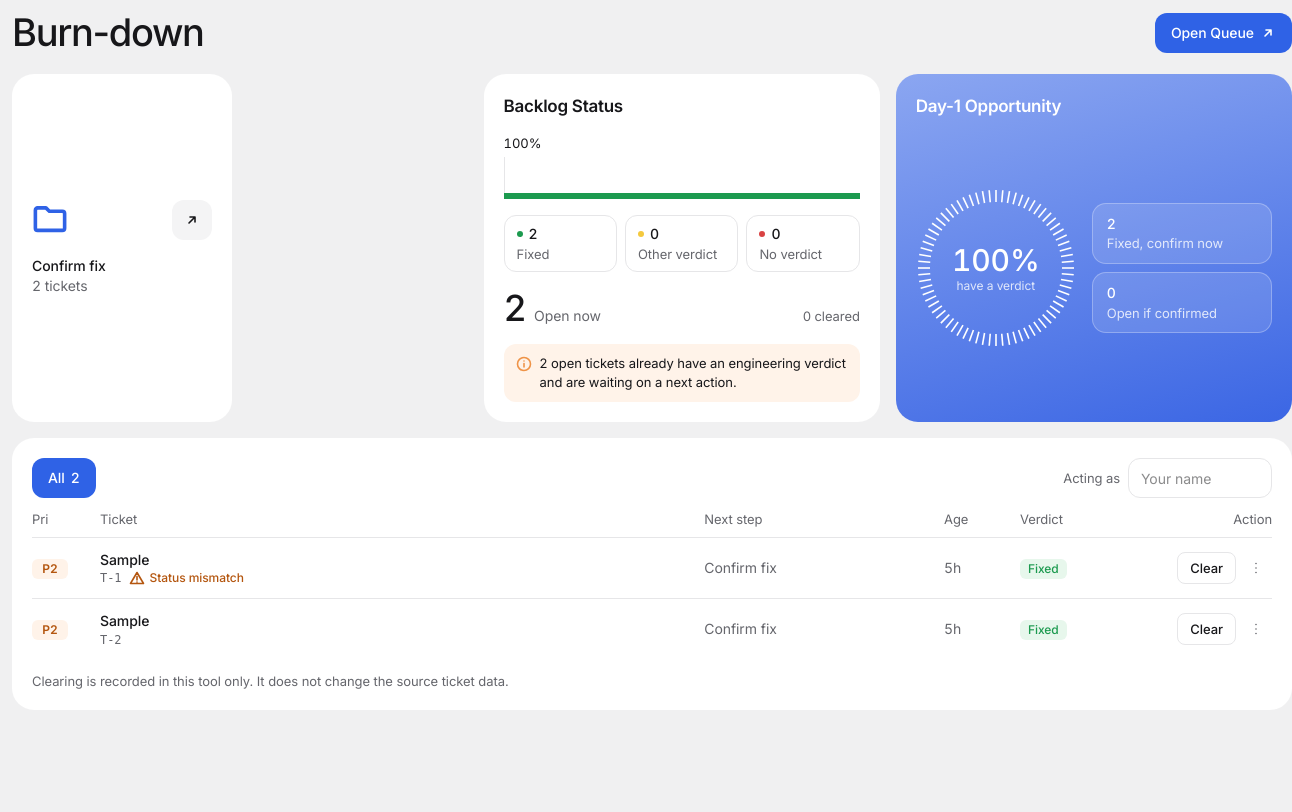
Test: BurndownView › asks for a name before recording
Click the button with aria-label "Clear T-1". click: x=1207, y=568
box: [1177,552,1236,584]
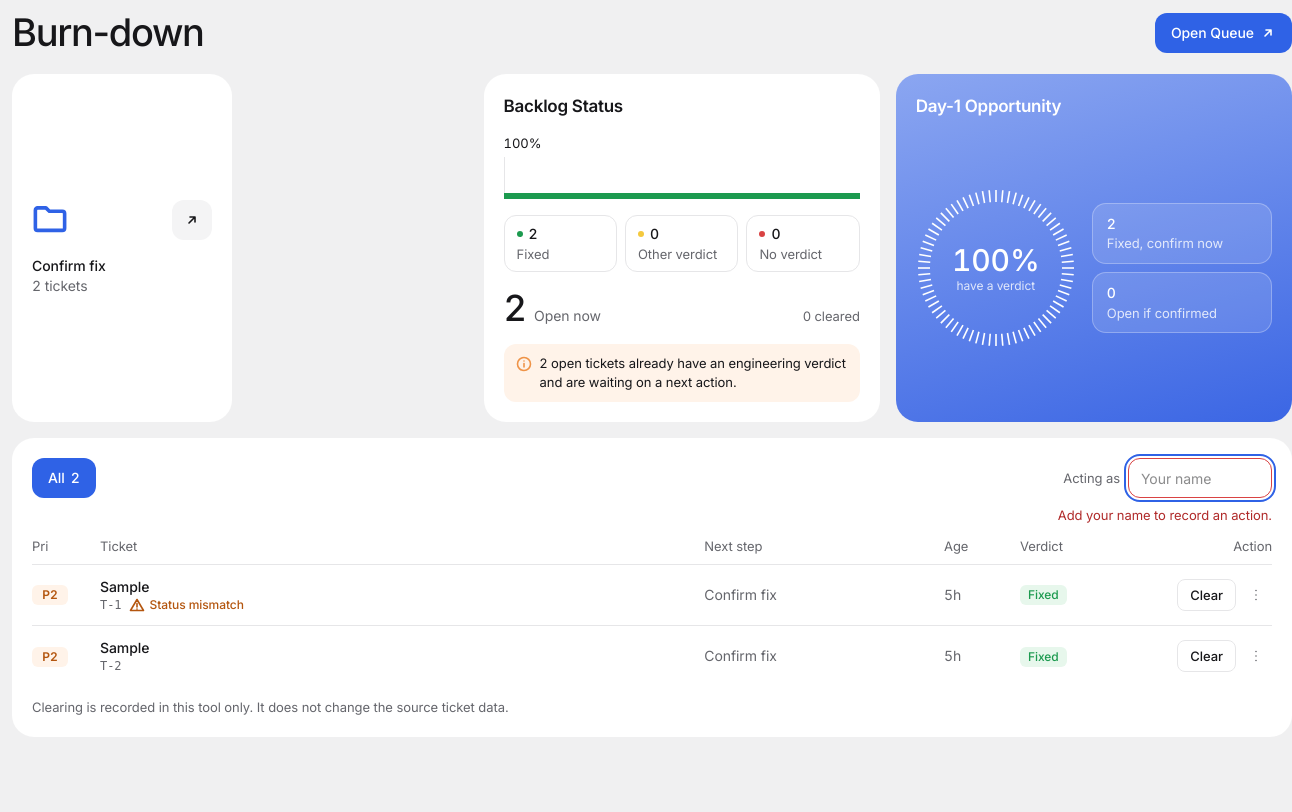
Check: the message shows "Add your name", box [1058,507,1272,523]
